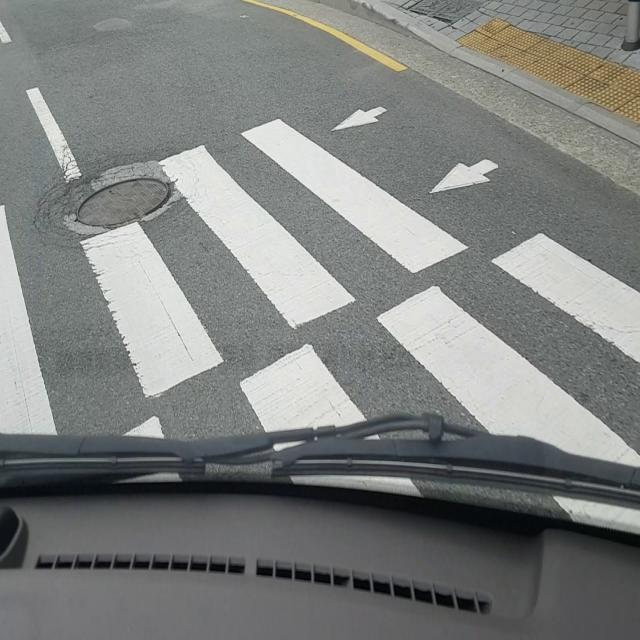Pothole: (73, 173, 173, 230)
